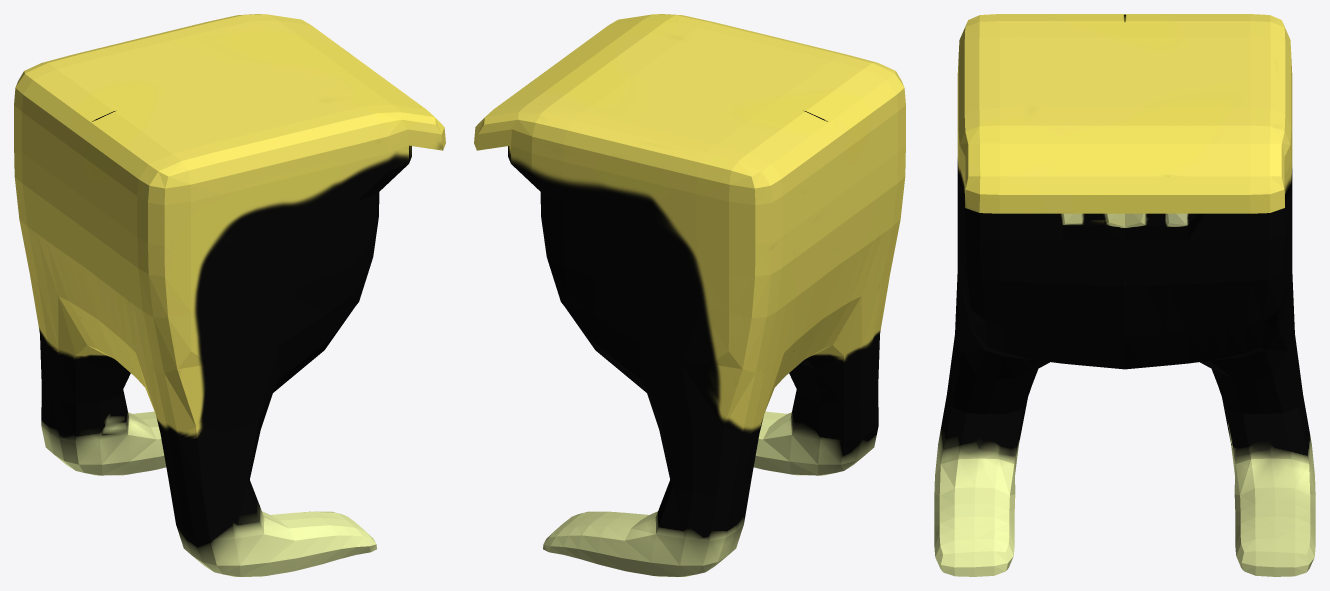
The model's file is beetle.obj.
3 views of the same model, side by side, from view 1: azimuth 30°, elevation 25°; view 2: azimuth 150°, elevation 25°; view 3: azimuth 270°, elevation 25° (orthographic). The views are drawn at different scales.
Parts seen in each view (by area): view 1: Cube; view 2: Cube; view 3: Cube.
Part boxes in pixels (box(x1,y1,x2,y2)): Cube: box(14, 14, 445, 576); Cube: box(474, 14, 905, 576); Cube: box(934, 14, 1315, 576).
Size of the model in its own units: 1.13 by 1.53 by 1.14.
1 material, 1 textured.
